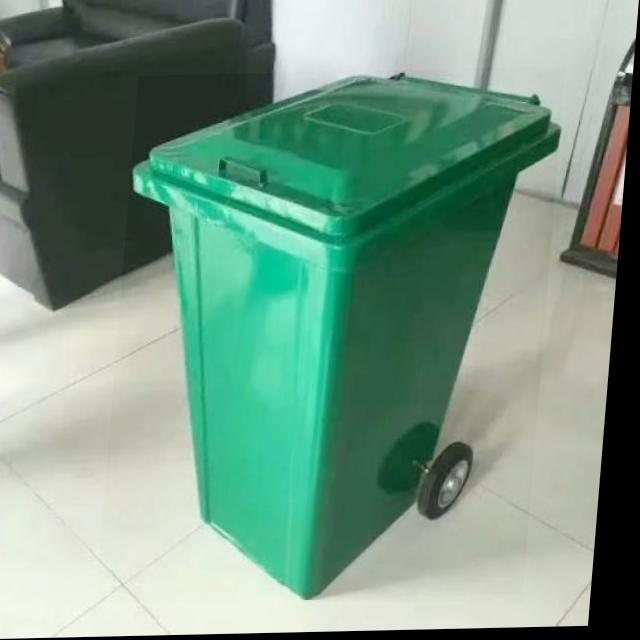garbage_bin: (106, 69, 567, 604)
